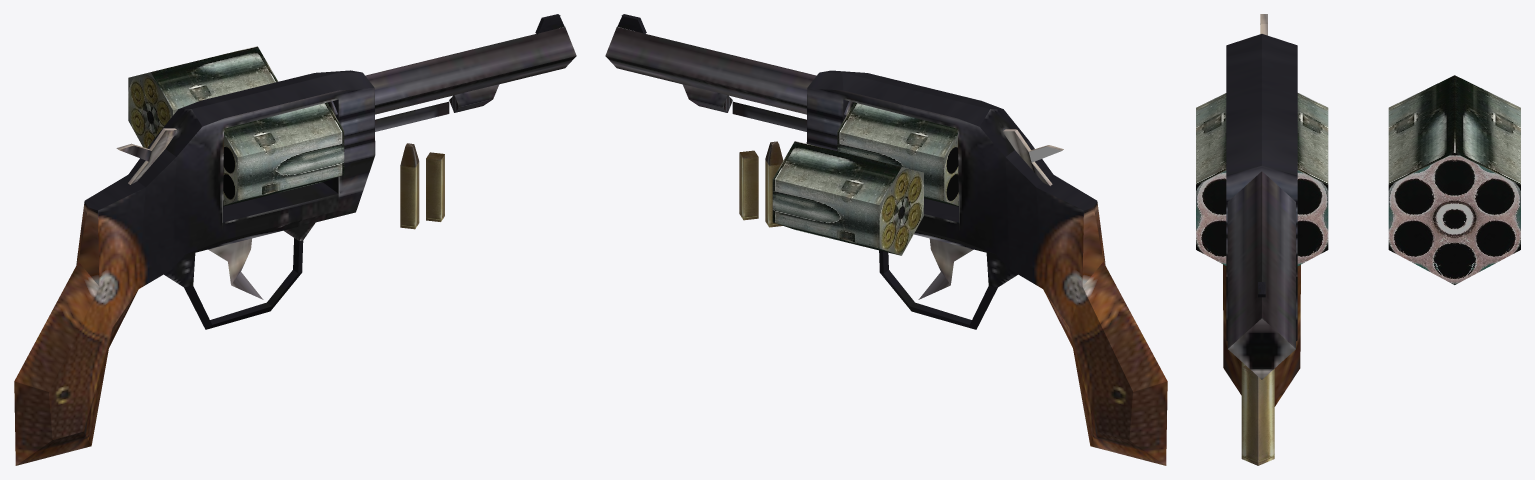
File: 38SpecialRevolver.fbx
The picture shows the model from 3 angles, left to right: view 1: azimuth 30°, elevation 25°; view 2: azimuth 150°, elevation 25°; view 3: azimuth 270°, elevation 25°; orthographic projection. The views are drawn at different scales.
Visible parts, largest first — view 1: 38SpecialBody, 38SpecialCylinder, 38SpecialCylinder.001, 38SpecialTrigger&Hammer, Bullet.001, 38SpecialShell; view 2: 38SpecialBody, 38SpecialCylinder.001, 38SpecialCylinder, 38SpecialTrigger&Hammer, 38SpecialShell, Bullet.001; view 3: 38SpecialBody, 38SpecialCylinder.001, 38SpecialCylinder, 38SpecialShell.
Boxes of the visible parts, <box> form: 38SpecialBody: <box>14,14,576,465</box>; 38SpecialCylinder: <box>223,102,344,206</box>; 38SpecialCylinder.001: <box>128,46,277,148</box>; 38SpecialTrigger&Hammer: <box>116,128,263,299</box>; Bullet.001: <box>400,143,419,229</box>; 38SpecialShell: <box>426,152,444,221</box>; 38SpecialBody: <box>605,14,1167,465</box>; 38SpecialCylinder.001: <box>772,141,923,255</box>; 38SpecialCylinder: <box>837,102,958,206</box>; 38SpecialTrigger&Hammer: <box>918,129,1063,299</box>; 38SpecialShell: <box>739,150,758,220</box>; Bullet.001: <box>765,141,783,227</box>; 38SpecialBody: <box>1223,34,1300,406</box>; 38SpecialCylinder.001: <box>1388,75,1520,284</box>; 38SpecialCylinder: <box>1196,93,1328,265</box>; 38SpecialShell: <box>1241,365,1274,465</box>.
Size of the model in its own units: 246 by 136 by 84.23.
